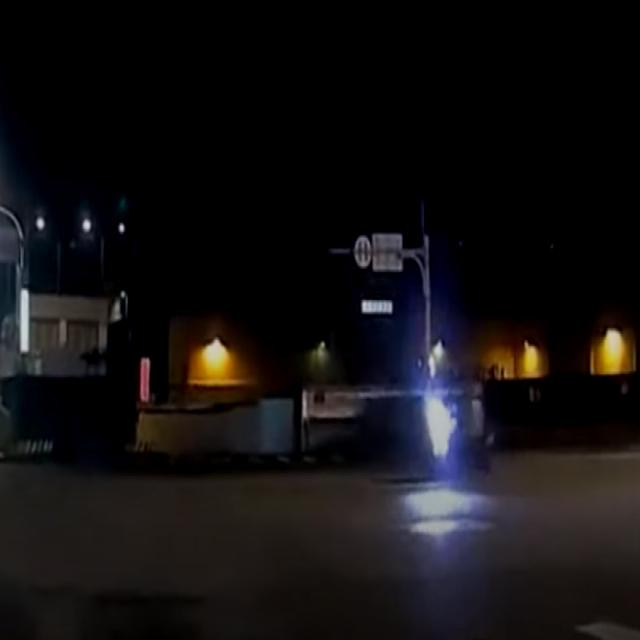accident: (428, 381, 496, 471)
